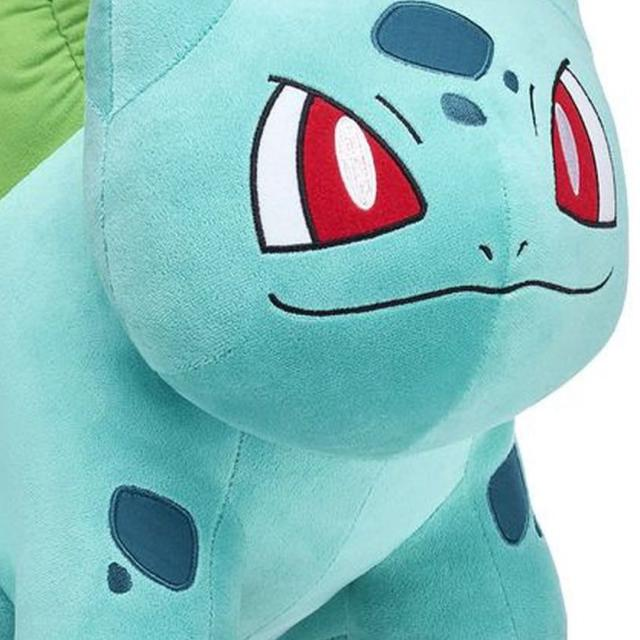Bulbasaur: (0, 2, 635, 607)
